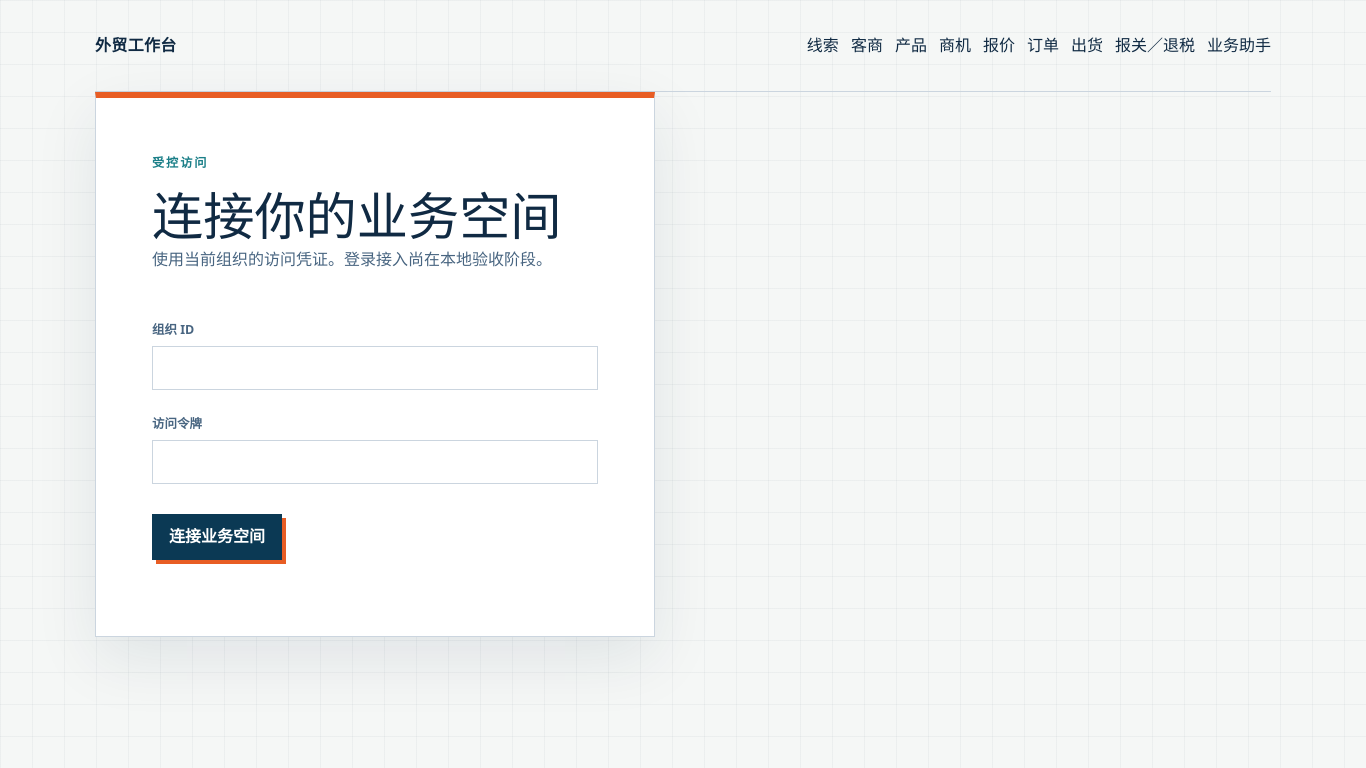
Test: validates connection without sending invalid credentials
The image size is (1366, 768).
Click the button "连接业务空间" at (217, 537), box 152,514 -> 282,560
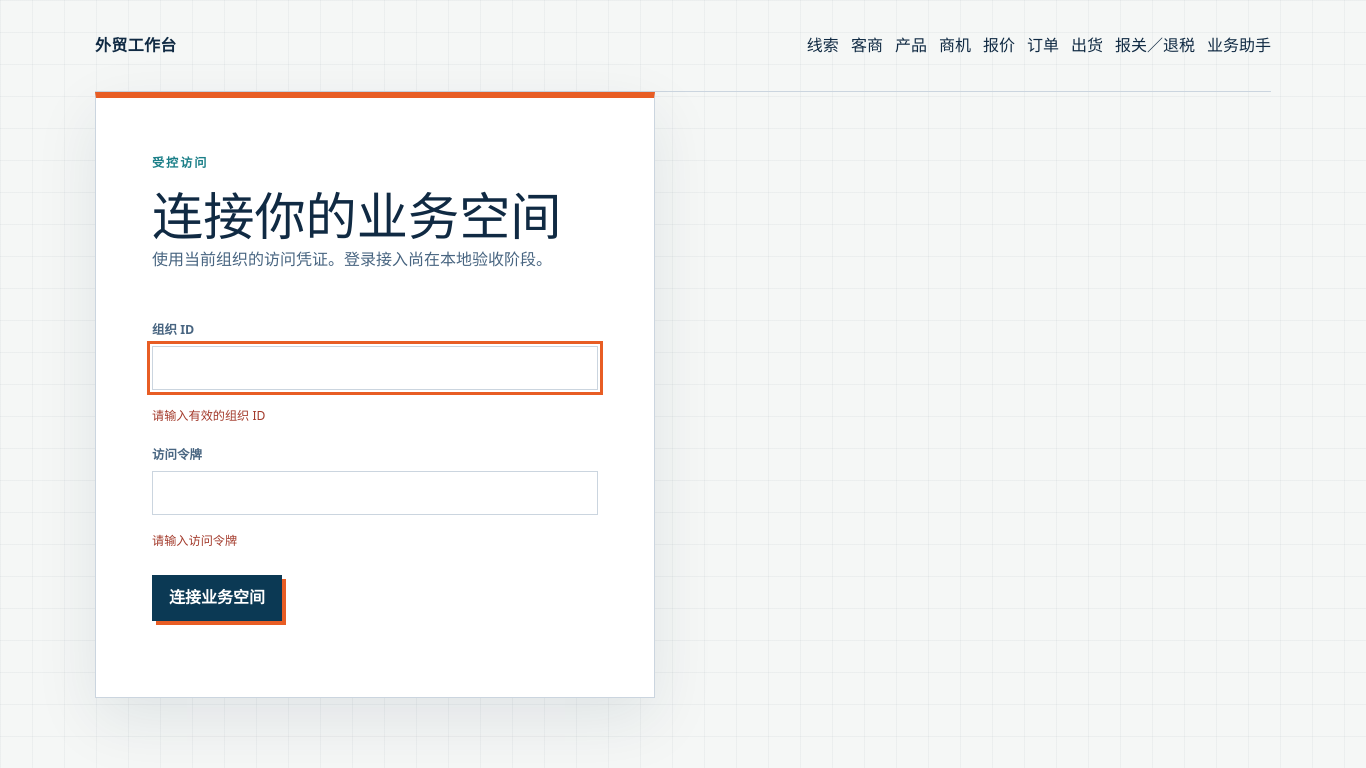
Expected: the text "请输入有效的组织 ID" is shown, 152,407 -> 265,424
